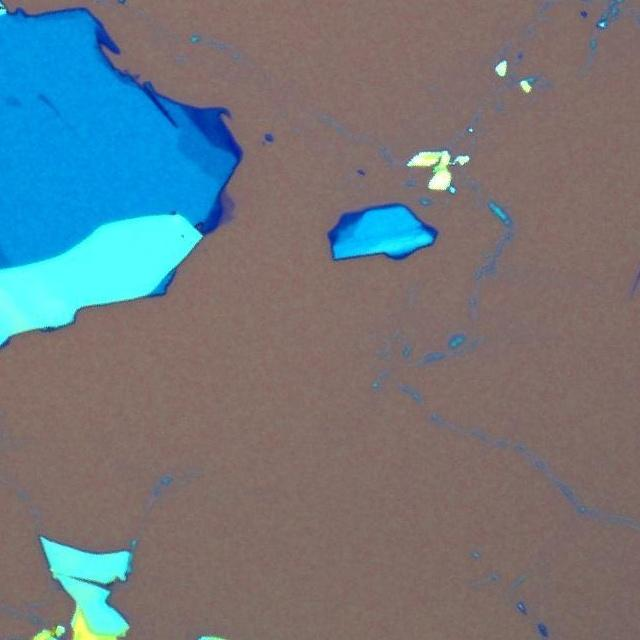monolayer-eWW4: (218, 189, 236, 224)
